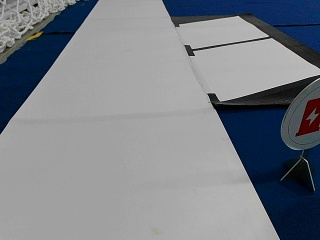battery: (281, 78, 319, 151)
